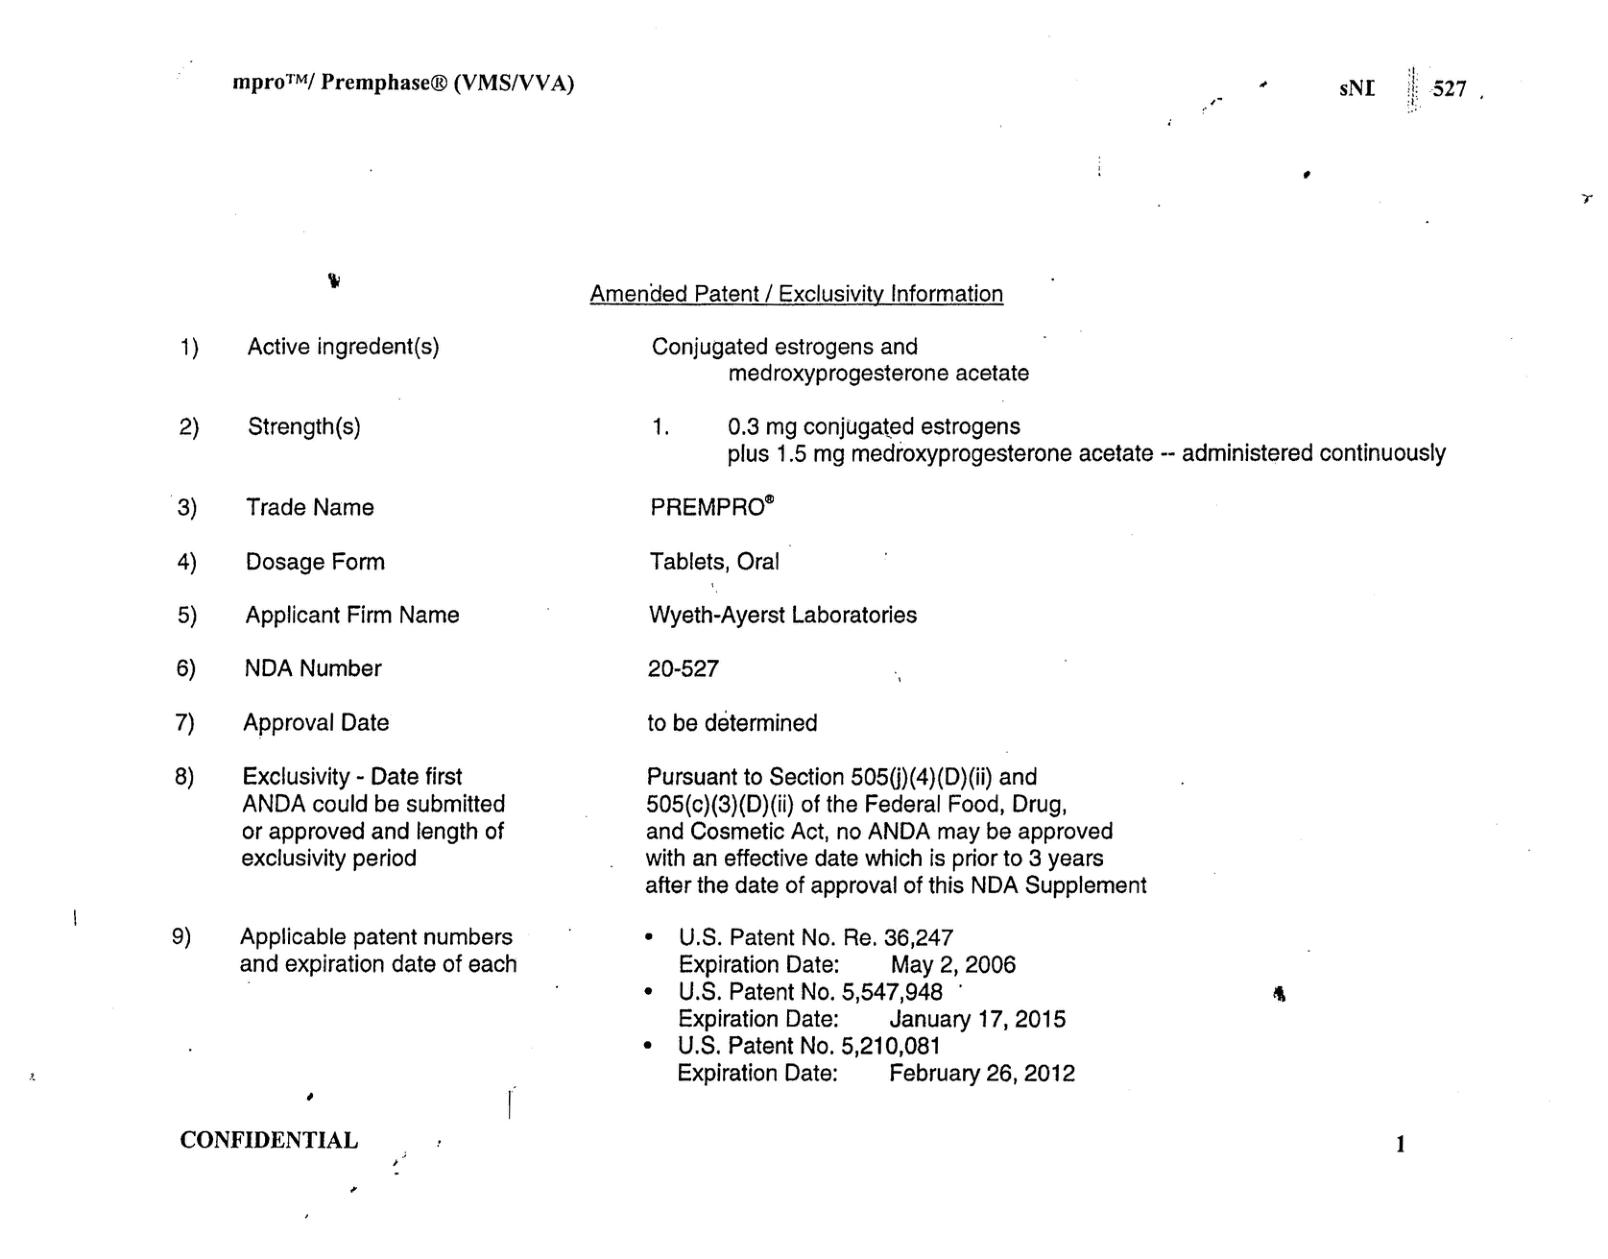nolines: (176, 331, 1450, 1088)
